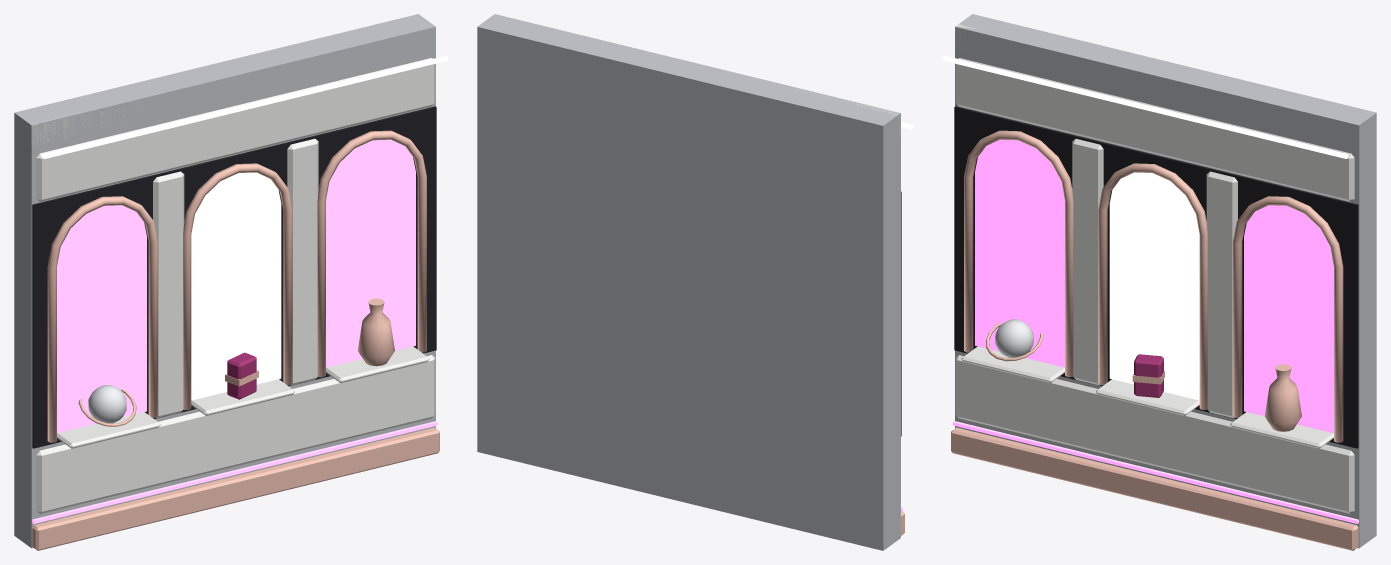
File: wall_niche.glb
The picture shows the model from 3 angles, left to right: view 1: azimuth 30°, elevation 25°; view 2: azimuth 150°, elevation 25°; view 3: azimuth 330°, elevation 25°; orthographic projection.
Visible parts, largest first — view 1: wall_niche; view 2: wall_niche; view 3: wall_niche.
Boxes of the visible parts, x1,y1,x2,y2 form: wall_niche: (14,14,448,550); wall_niche: (477,14,913,550); wall_niche: (942,14,1376,550).
Size of the model in its own units: 4 by 4 by 0.6676.
